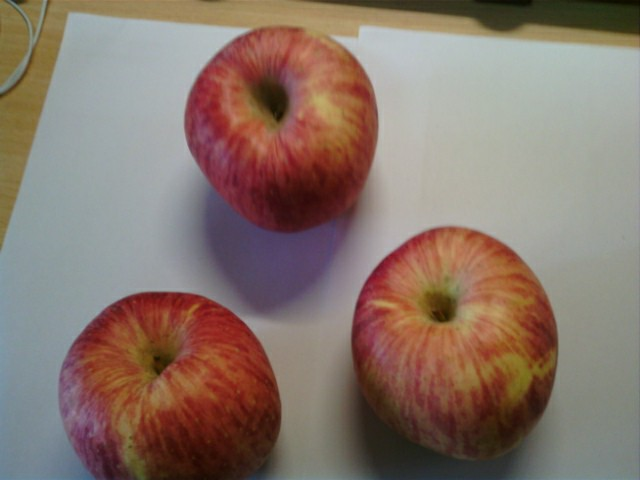normal_apple: (352, 224, 560, 461), (56, 289, 282, 480), (187, 24, 378, 235)
